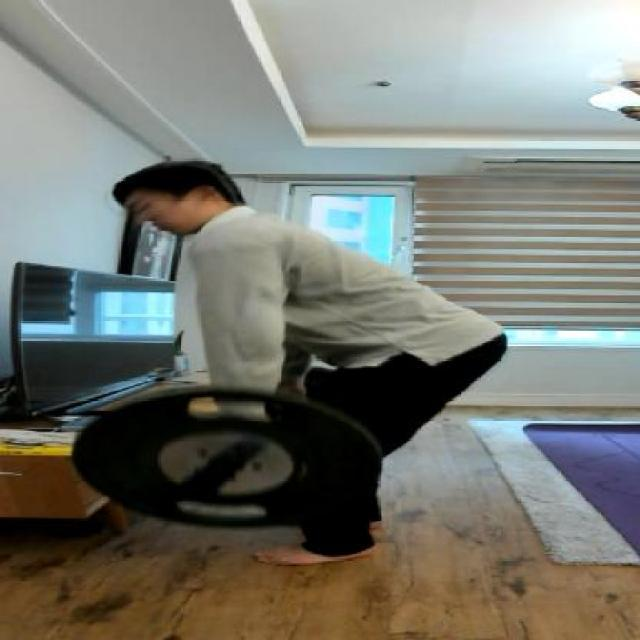Barbell: (162, 472, 228, 506)
